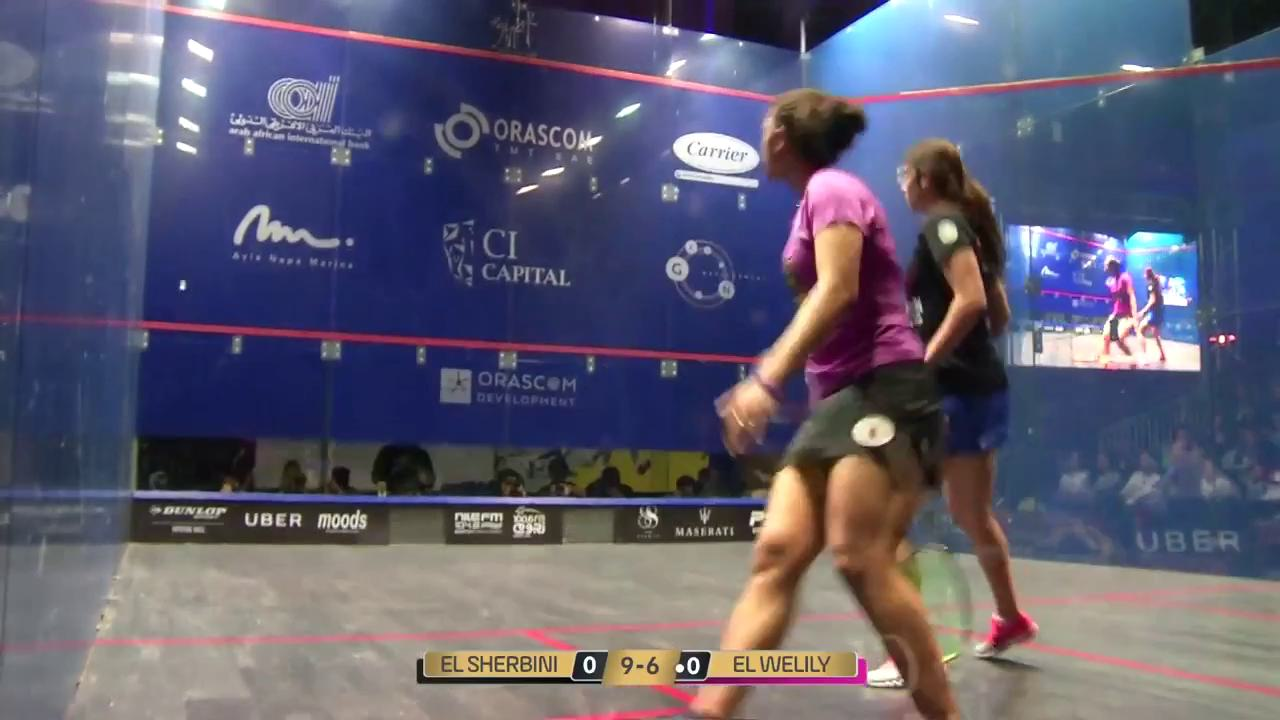normal: (681, 77, 1060, 720)
